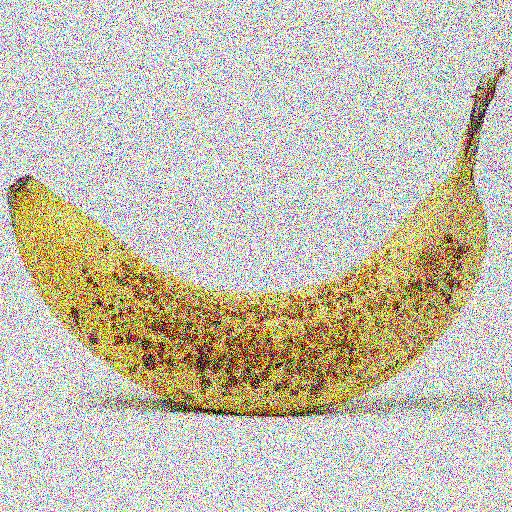fruit: (491, 31, 507, 123)
